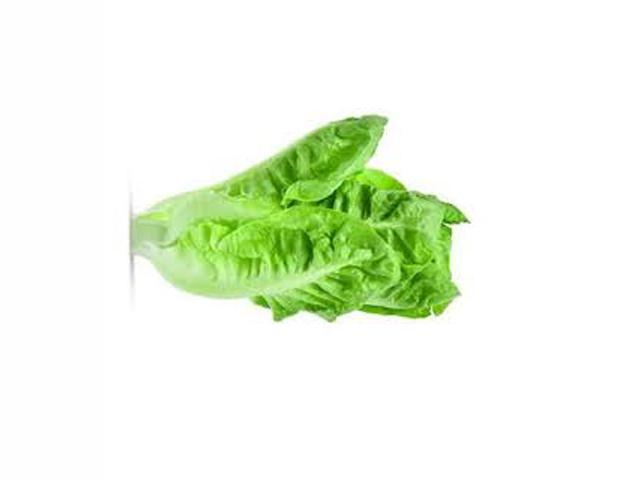lettuce: (143, 112, 470, 333)
